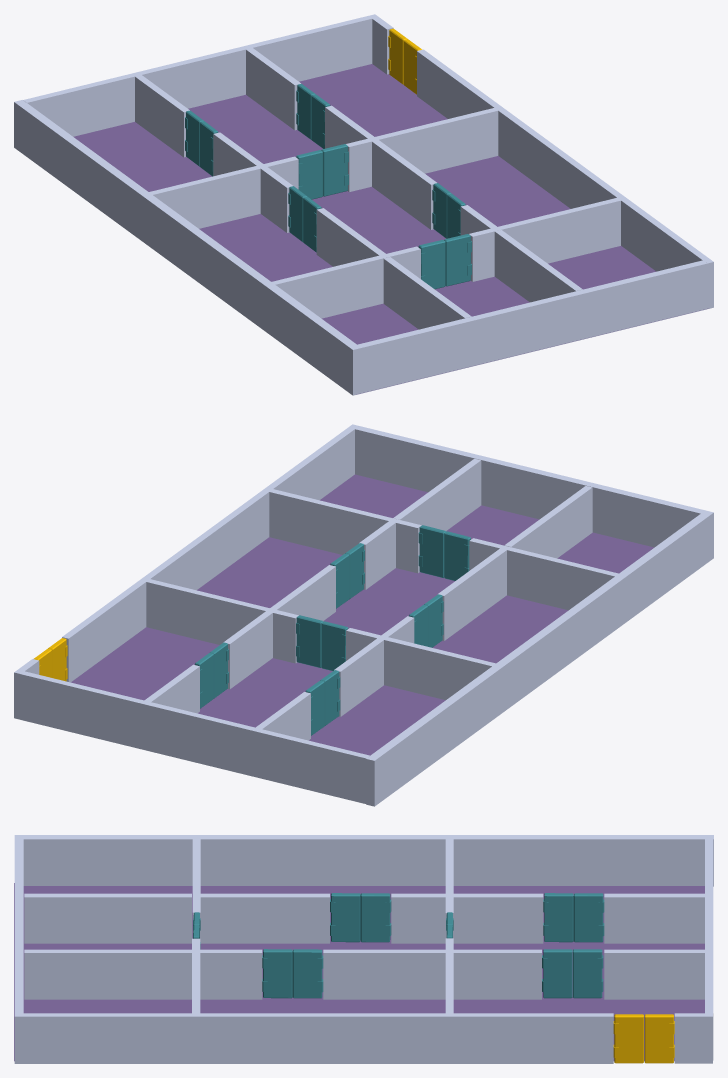
File: maps33.fbx
3 views of the same model, one above another, from view 1: azimuth 30°, elevation 25°; view 2: azimuth 150°, elevation 25°; view 3: azimuth 270°, elevation 25° (orthographic). The views are drawn at different scales.
Parts seen in each view (by area): view 1: wall_01_08_geo, wall_01_07_geo, wall_01_05_geo, wall_01_09_geo, wall_01_06_geo, wall_01_09_geo2, wall_01_09_geo9, polySurface6 (×6), wall_01_09_geo5, wall_01_09_geo15, polySurface2 (×6), wall_01_09_geo14 (+10 smaller); view 2: wall_01_08_geo, wall_01_07_geo, wall_01_09_geo, wall_01_05_geo, wall_01_06_geo, wall_01_09_geo9, wall_01_09_geo2, polySurface2 (×6), wall_01_09_geo5, wall_01_09_geo15, polySurface6 (×5), wall_01_09_geo14 (+8 smaller); view 3: wall_01_07_geo, wall_01_06_geo, wall_01_08_geo, wall_01_09_geo14, wall_01_09_geo8, wall_01_09_geo10, wall_01_09_geo13, wall_01_09_geo11, polySurface6 (×4), polySurface2 (×4), wall_01_09_geo16, wall_01_09_geo17 (+10 smaller).
Boxes of the visible parts, x1,y1,x2,y2 form: wall_01_08_geo: (73,64,709,394); wall_01_07_geo: (14,100,361,395); wall_01_05_geo: (357,260,707,393); wall_01_09_geo: (23,15,372,136); wall_01_06_geo: (417,49,713,308); wall_01_09_geo2: (346,108,498,192); wall_01_09_geo9: (469,198,620,281); polySurface6 (×6): (185,83,471,286); wall_01_09_geo5: (272,246,420,318); wall_01_09_geo15: (149,156,298,228); polySurface2 (×6): (200,94,465,289); wall_01_09_geo14: (325,105,436,229); wall_01_08_geo: (71,474,654,755); wall_01_07_geo: (366,510,713,806); wall_01_09_geo: (20,671,369,803); wall_01_05_geo: (355,426,704,547); wall_01_06_geo: (62,424,358,682); wall_01_09_geo9: (269,489,421,573); wall_01_09_geo2: (146,579,298,663); polySurface2 (×6): (210,531,470,725); wall_01_09_geo5: (469,538,618,610); wall_01_09_geo15: (346,628,496,700); polySurface6 (×5): (195,525,446,735); wall_01_09_geo14: (223,565,335,689); wall_01_07_geo: (14,835,713,886); wall_01_06_geo: (14,1013,613,1063); wall_01_08_geo: (14,883,704,1061); wall_01_09_geo14: (323,949,541,999); wall_01_09_geo8: (24,893,191,943); wall_01_09_geo10: (24,949,191,999); wall_01_09_geo13: (391,893,543,943); wall_01_09_geo11: (200,893,329,943); polySurface6 (×4): (292,893,604,998); polySurface2 (×4): (262,893,573,998); wall_01_09_geo16: (604,893,704,943); wall_01_09_geo17: (604,949,704,999).
Size of the model in its own units: 73.38 by 9.12 by 119.
Materials: 2 (2 with a texture image).
